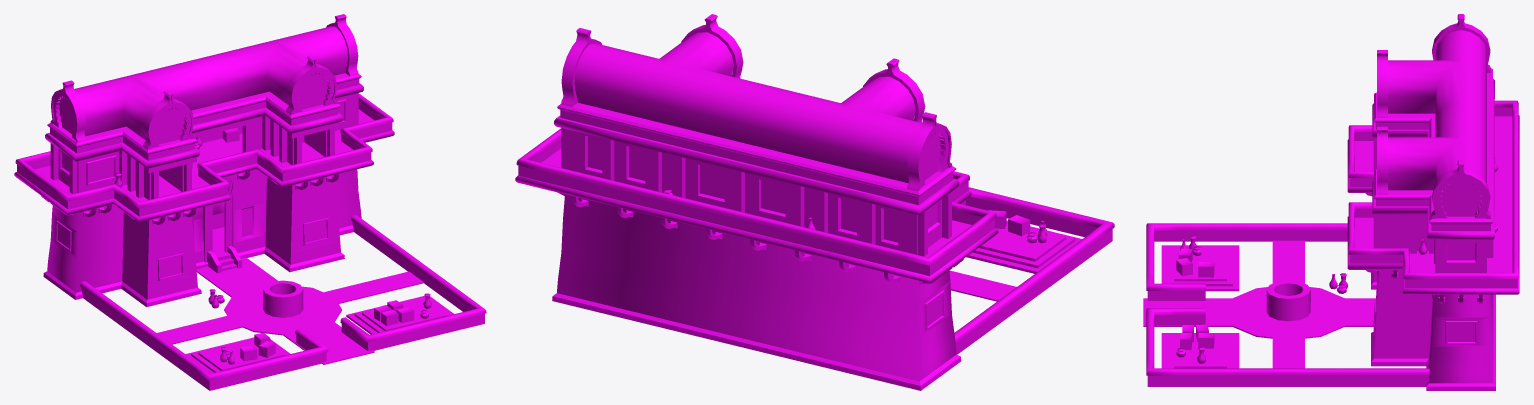
File: maur_palace_large.glb
3 renders of one model, left to right at view 1: azimuth 30°, elevation 25°; view 2: azimuth 150°, elevation 25°; view 3: azimuth 270°, elevation 25°, orthographic. The views are drawn at different scales.
Parts seen in each view (by area): view 1: maur_civic_centre-mesh; view 2: maur_civic_centre-mesh; view 3: maur_civic_centre-mesh.
Part boxes in pixels (x1=…): maur_civic_centre-mesh: x1=14, y1=14, x2=486, y2=390; maur_civic_centre-mesh: x1=515, y1=14, x2=1114, y2=390; maur_civic_centre-mesh: x1=1143, y1=14, x2=1519, y2=390.
Bounding box in the file's own units: 32 × 19.05 × 29.
